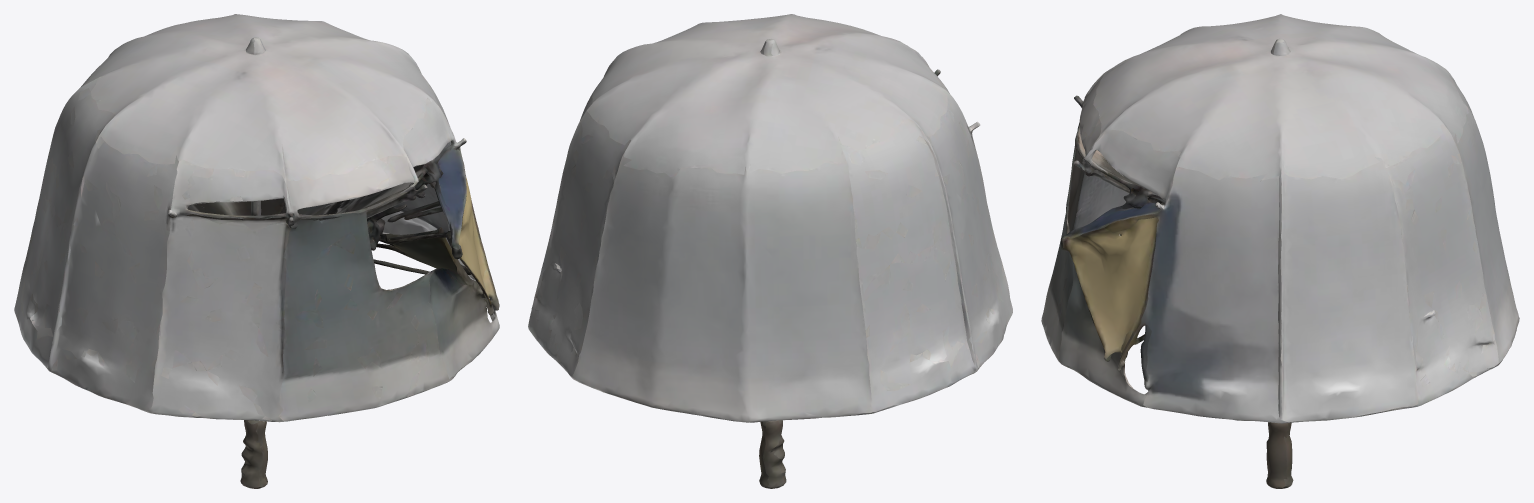
3 renders of one model, left to right at view 1: azimuth 30°, elevation 25°; view 2: azimuth 150°, elevation 25°; view 3: azimuth 270°, elevation 25°, orthographic.
Parts seen in each view (by area): view 1: geometry_0; view 2: geometry_0; view 3: geometry_0.
Boxes of the visible parts, bbox=[...] form: geometry_0: bbox=[14, 14, 499, 488]; geometry_0: bbox=[528, 14, 1012, 488]; geometry_0: bbox=[1041, 14, 1519, 488].
Size of the model in its own units: 1.2 by 1.23 by 1.2.
1 material, 1 textured.
